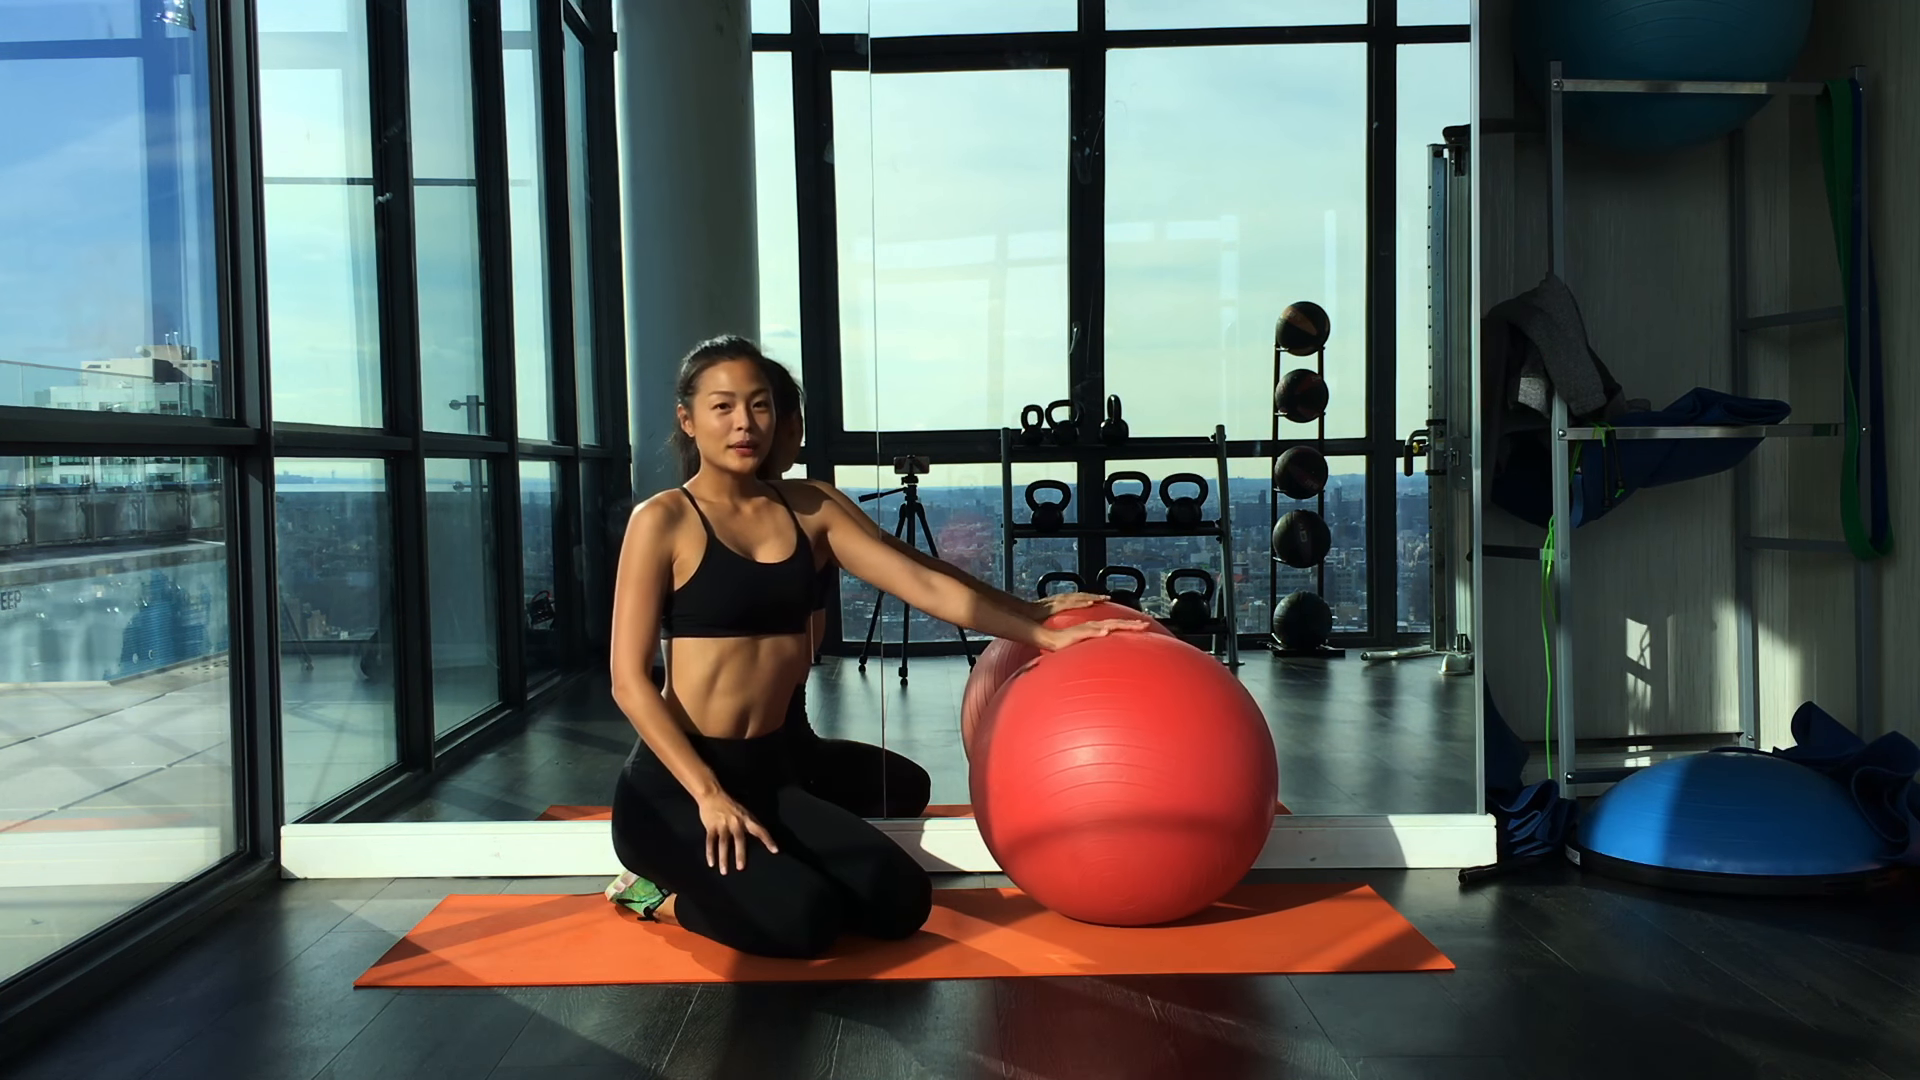yogaball: (963, 630, 1284, 930)
